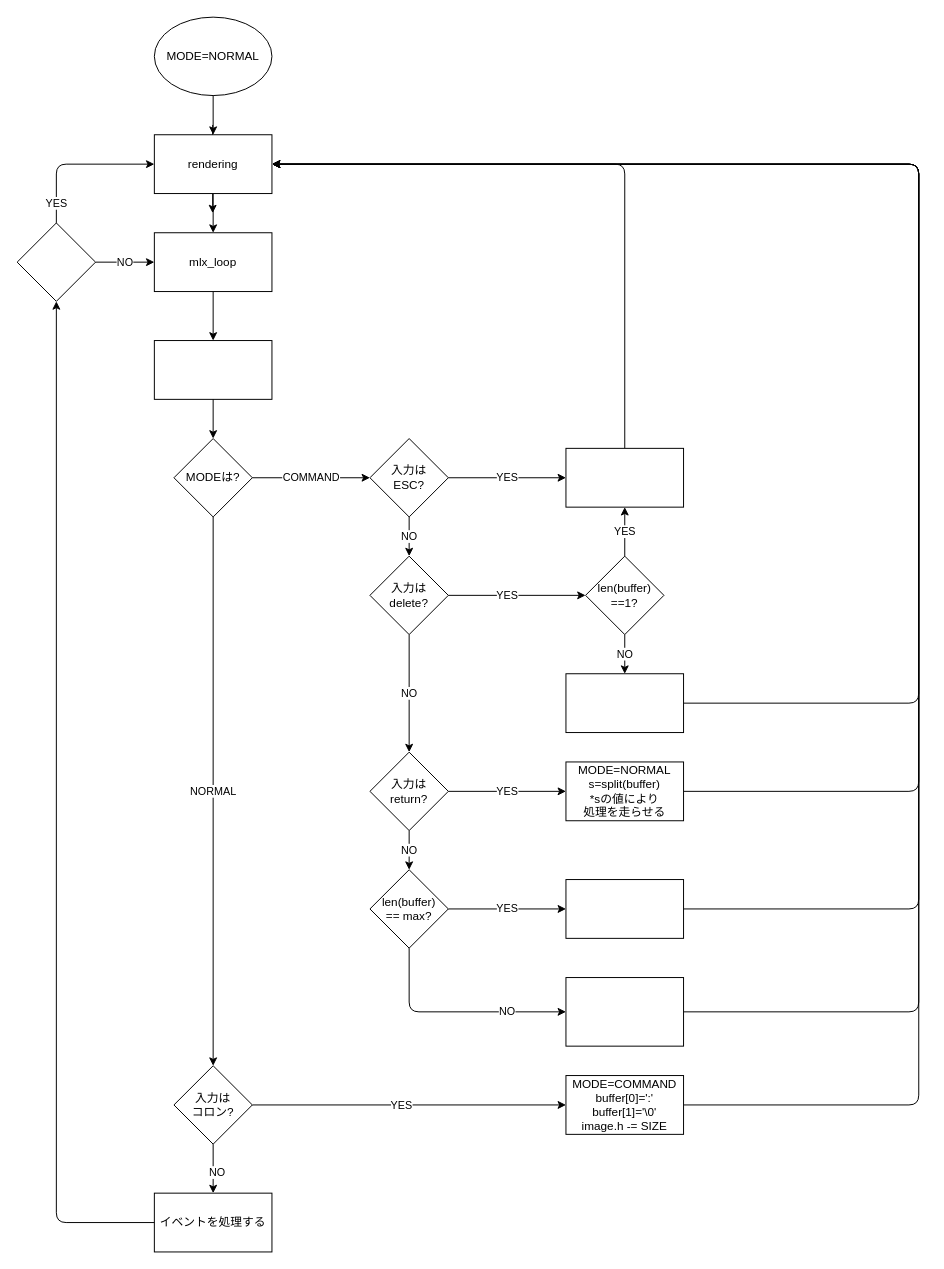
Image size: 944x1269. Some labels were removed from this diagram. The shapes that lost their labels are listed below. From the top down, each one's centre as x and y in pixels, then its label:
At pixel 56 261: "is_update == true?".
At pixel 212 369: "フックされている イベントの発生".
At pixel 624 477: "MODE=NORMAL buffer[0]='\0' image.h += SIZE".
At pixel 624 703: "buffer[len(buffer) - 1] ='\0'".
At pixel 624 908: "警告を出力 ft_putchr_fd('\a')".
At pixel 624 1011: "buffer[len(buffer)] =入力文字 buffer[len(buffer)] =''\0'".
